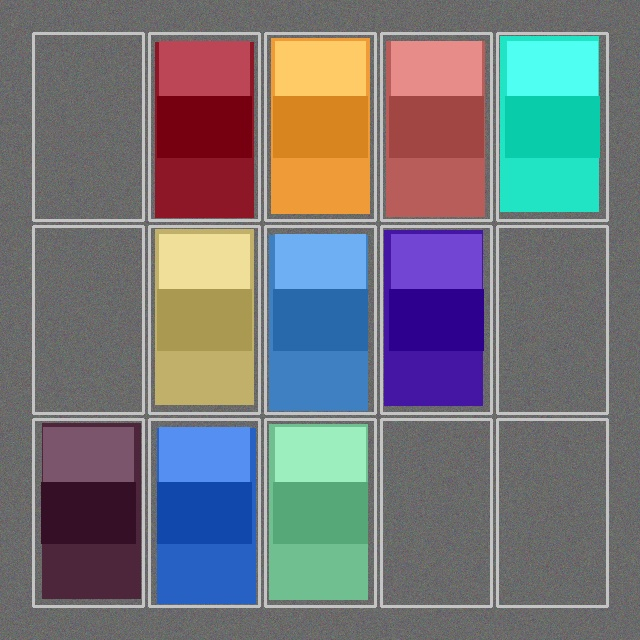space-empty: (35, 35, 141, 218), (35, 228, 141, 411), (499, 228, 605, 411), (383, 421, 489, 604), (499, 421, 605, 604)
space-occupied: (151, 35, 257, 218), (267, 35, 373, 218), (383, 35, 489, 218), (499, 35, 605, 218), (151, 228, 257, 411), (267, 228, 373, 411), (383, 228, 489, 411), (35, 421, 141, 604), (151, 421, 257, 604), (267, 421, 373, 604)
